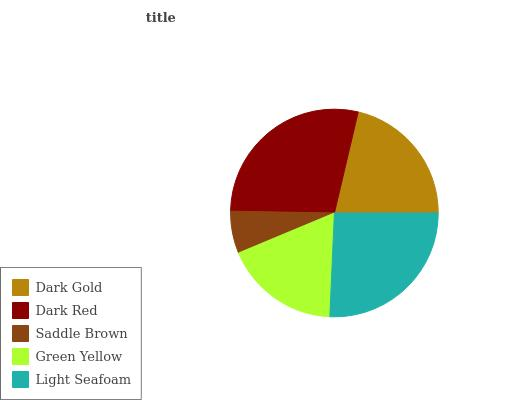legend: (1, 268, 142, 399)
sector: (224, 98, 362, 213), (329, 213, 440, 319), (334, 110, 441, 212), (238, 212, 333, 319), (226, 209, 334, 253)
